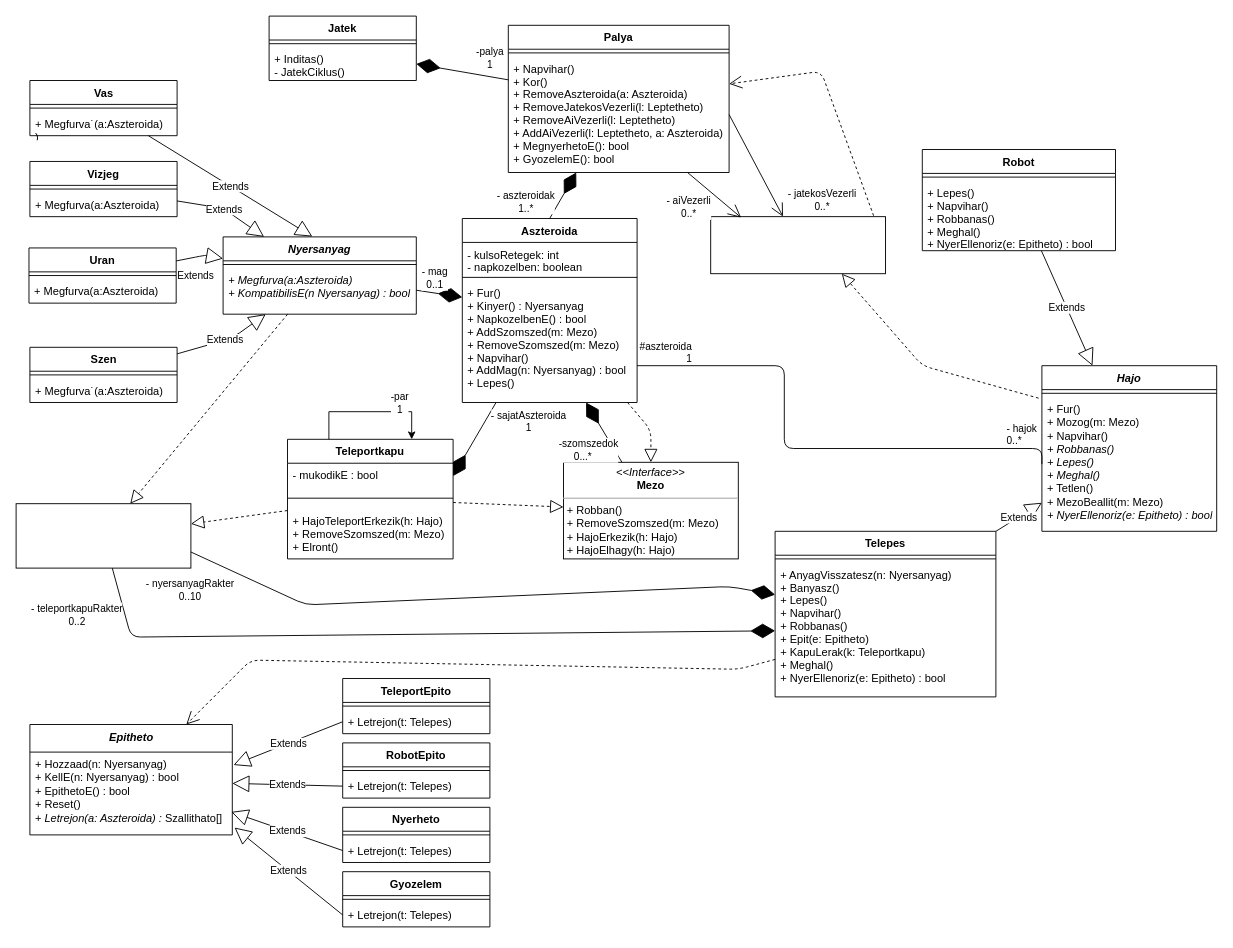
Some shapes in this 1233 by 948 pixel diagram are drawn without their labels. Here are the shapes that lost their labels. From the top down, the centre of each, then its label:
At pixel 798 245: "<<Interface>> Leptetheto + Lepes()".
At pixel 103 535: "<<Interface>> Szallithato + Megsemmisul()".
